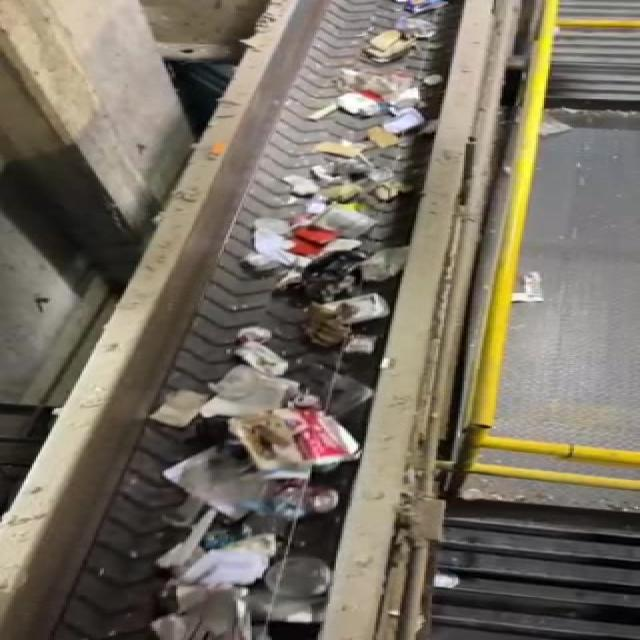ps: (225, 408, 366, 480)
